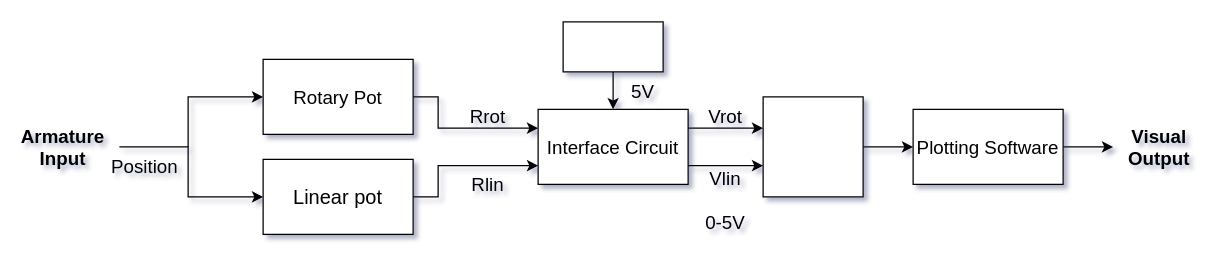
Image size: 1226x270. Some labels were removed from this diagram. Each missing label, with the centre of its shape:
Arduino ADC Convertion: the point at 812,146
Voltage Input: the point at 612,46
